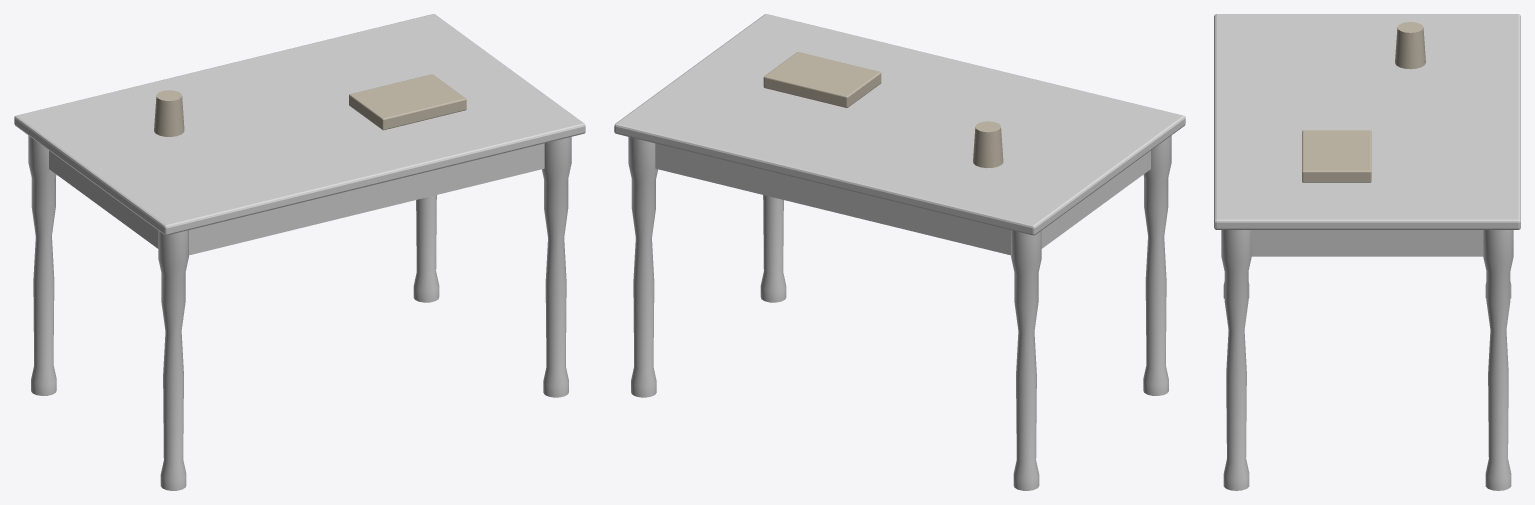
The model's file is toy_table.fbx.
3 views of the same model, side by side, from view 1: azimuth 30°, elevation 25°; view 2: azimuth 150°, elevation 25°; view 3: azimuth 270°, elevation 25° (orthographic).
Parts seen in each view (by area): view 1: pine_1, cream_1; view 2: pine_1, cream_1; view 3: pine_1, cream_1.
Boxes of the visible parts, left/top/right/bottom form: pine_1: left=14, top=14, right=585, bottom=490; cream_1: left=154, top=74, right=466, bottom=136; pine_1: left=614, top=14, right=1185, bottom=490; cream_1: left=763, top=52, right=1003, bottom=168; pine_1: left=1214, top=14, right=1520, bottom=490; cream_1: left=1302, top=22, right=1425, bottom=182.
Size of the model in its own units: 2.88 by 2.01 by 1.8.
